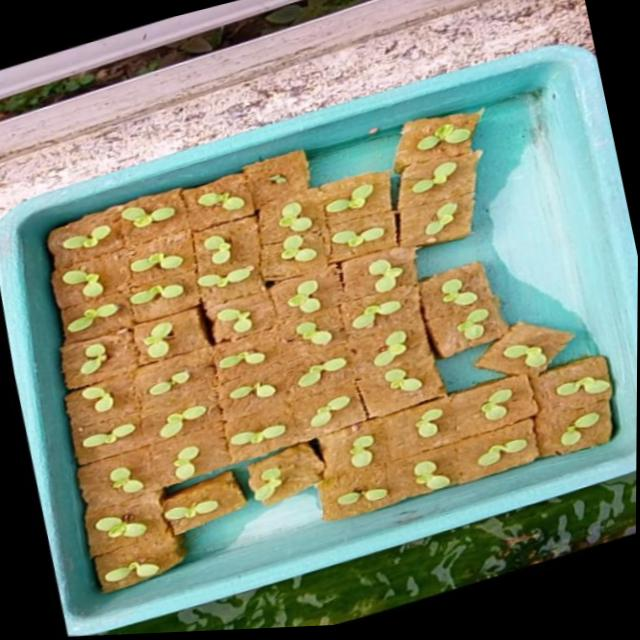Baby: (489, 335, 549, 376), (547, 410, 610, 449), (96, 462, 163, 498), (138, 364, 200, 397), (475, 431, 535, 465), (371, 330, 423, 367), (58, 304, 118, 336), (328, 222, 381, 257), (60, 338, 104, 376), (209, 306, 255, 342), (351, 302, 402, 334), (533, 385, 589, 414), (158, 406, 205, 439), (455, 309, 494, 347), (296, 358, 344, 388), (414, 128, 468, 154), (409, 166, 454, 197), (193, 266, 250, 288), (81, 424, 133, 448), (323, 184, 369, 211), (60, 225, 109, 250), (364, 261, 399, 295), (126, 284, 180, 306), (117, 207, 171, 229), (138, 321, 170, 358), (412, 460, 448, 490), (225, 382, 276, 403), (284, 282, 316, 315), (59, 271, 98, 298), (383, 369, 421, 396), (422, 206, 454, 238), (275, 206, 308, 236), (277, 237, 313, 264), (476, 390, 507, 421), (217, 350, 264, 370), (171, 447, 198, 480), (439, 279, 474, 304), (79, 386, 113, 411), (294, 322, 330, 345), (194, 194, 240, 212), (311, 399, 340, 427), (347, 436, 372, 468), (413, 409, 440, 438), (200, 236, 227, 265), (128, 254, 168, 273)
